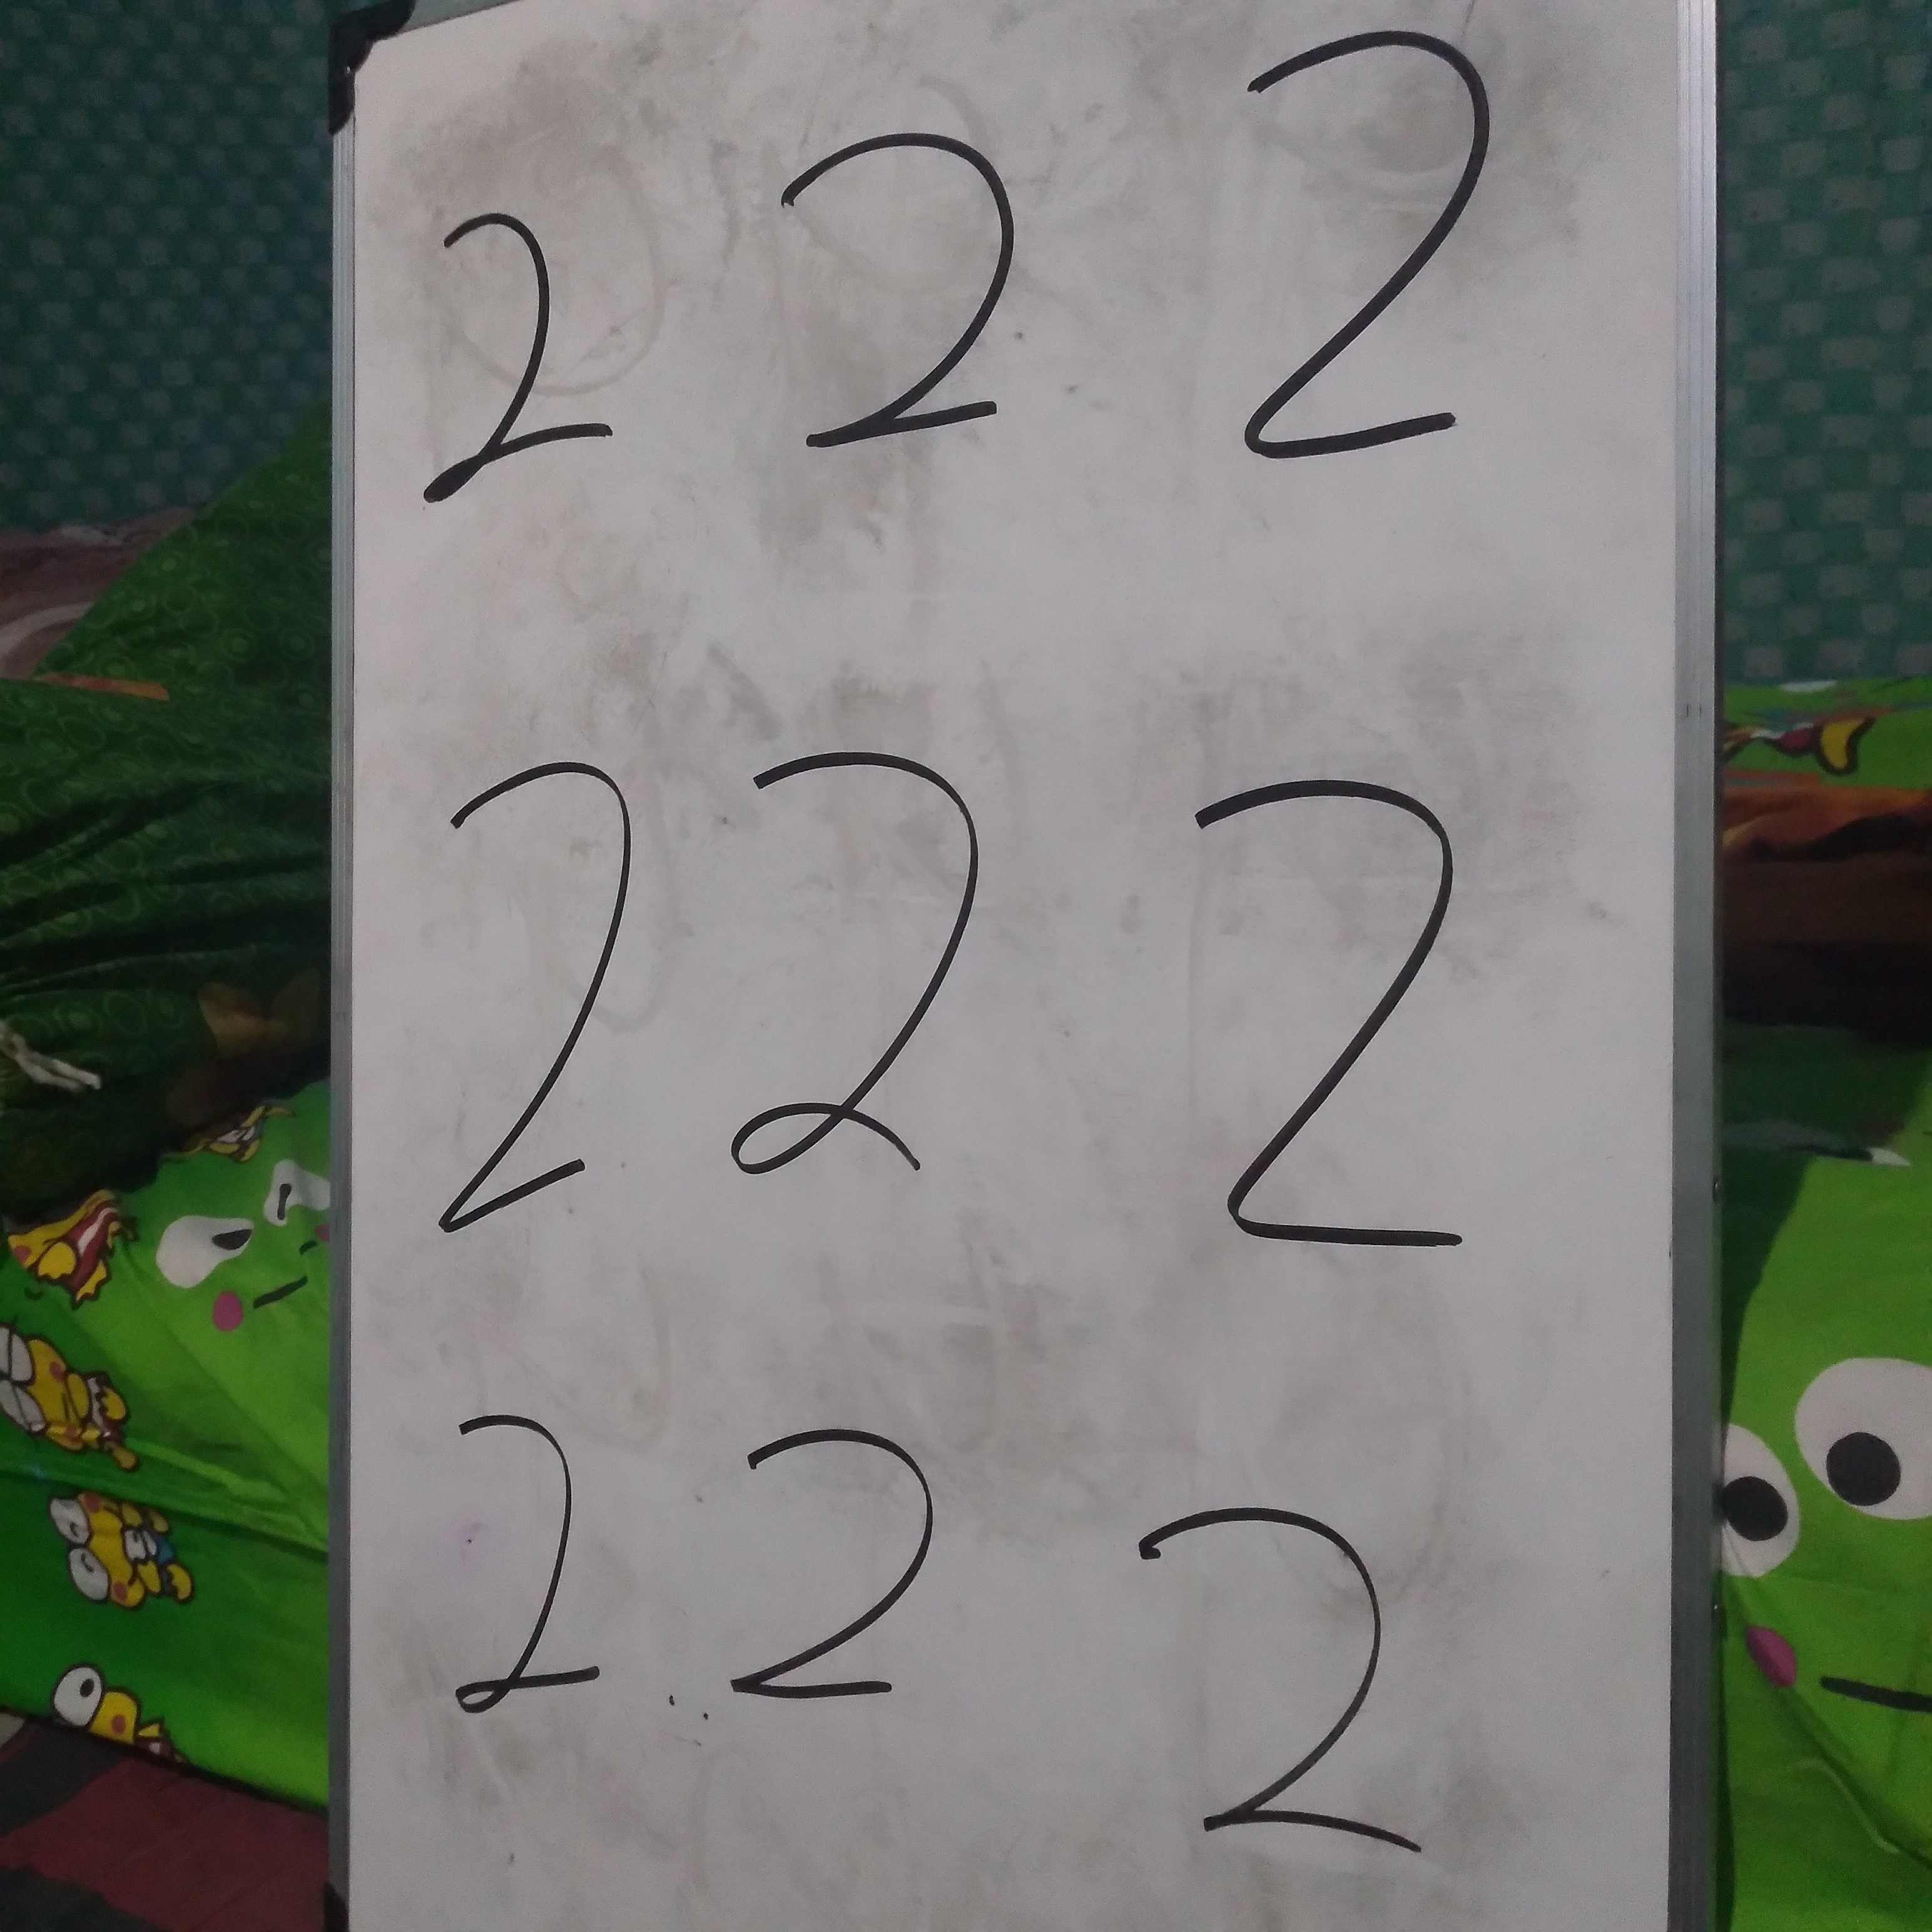num2: (1219, 17, 1568, 506), (358, 751, 707, 1240), (1171, 765, 1520, 1253), (690, 708, 1039, 1197), (1141, 1492, 1453, 1878), (390, 180, 648, 529), (770, 114, 1029, 464), (417, 1397, 676, 1746), (701, 1381, 959, 1731)
